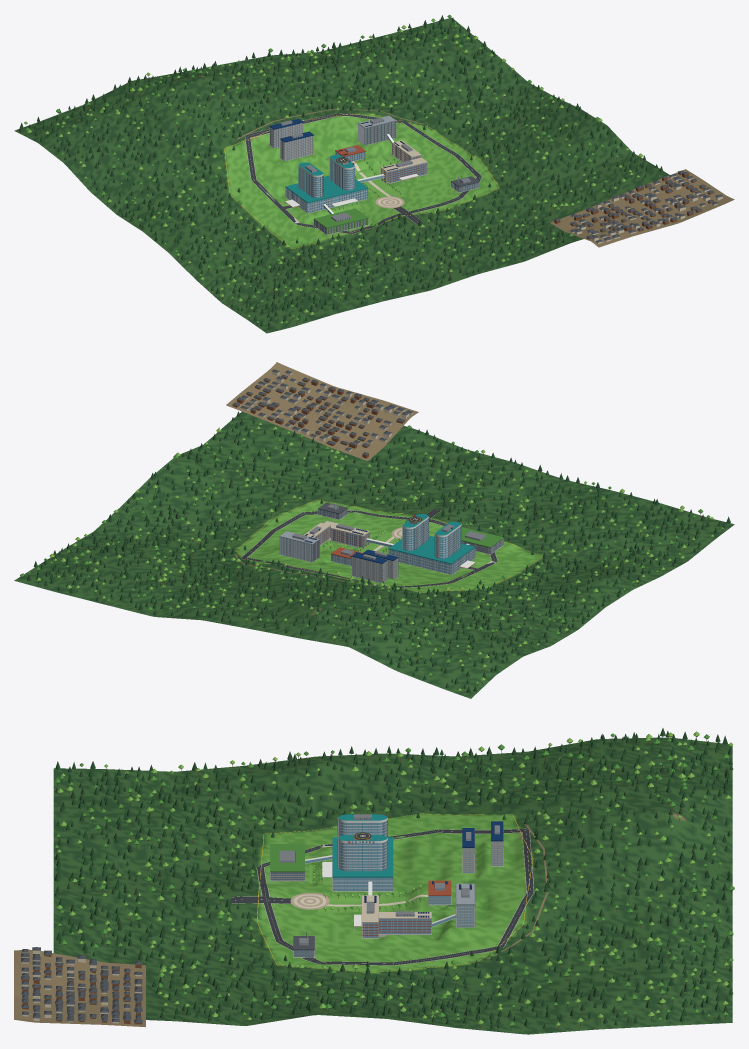
The model's file is campus-med-site.glb.
3 views of the same model, one above another, from view 1: azimuth 30°, elevation 25°; view 2: azimuth 150°, elevation 25°; view 3: azimuth 270°, elevation 25° (orthographic). The views are drawn at different scales.
Parts seen in each view (by area): view 1: MS_Terrain, MS_Trees, MS_DramaSet, MS_Landscape, MS_Building_hospital-podium, MS_Building_parking, MS_Building_research, MS_Building_school-a, MS_Building_dorm-1, MS_Building_ward-east, MS_Building_ward-west, MS_Building_dorm-2; view 2: MS_Terrain, MS_Trees, MS_DramaSet, MS_Landscape, MS_Building_hospital-podium, MS_Building_research, MS_Building_dorm-2, MS_Building_ward-west, MS_Building_ward-east, MS_Building_parking, MS_Building_school-a; view 3: MS_Terrain, MS_Trees, MS_DramaSet, MS_Landscape, MS_Building_ward-east, MS_Building_hospital-podium, MS_Building_parking, MS_Building_school-b, MS_Building_ward-west, MS_Building_research, MS_Building_school-a, MS_Building_commons (+3 smaller).
Part boxes in pixels (<box>): MS_Terrain: <box>14,17,669,333</box>; MS_Trees: <box>19,14,662,329</box>; MS_DramaSet: <box>550,169,734,247</box>; MS_Landscape: <box>237,108,481,234</box>; MS_Building_hospital-podium: <box>285,175,368,213</box>; MS_Building_parking: <box>313,208,368,235</box>; MS_Building_research: <box>358,115,396,145</box>; MS_Building_school-a: <box>380,157,427,183</box>; MS_Building_dorm-1: <box>280,131,313,161</box>; MS_Building_ward-east: <box>329,155,354,190</box>; MS_Building_ward-west: <box>298,162,323,197</box>; MS_Building_dorm-2: <box>269,118,303,148</box>; MS_Terrain: <box>14,411,734,698</box>; MS_Trees: <box>20,411,730,693</box>; MS_DramaSet: <box>226,362,418,460</box>; MS_Landscape: <box>234,509,497,589</box>; MS_Building_hospital-podium: <box>388,535,475,575</box>; MS_Building_research: <box>279,531,319,562</box>; MS_Building_dorm-2: <box>351,552,387,583</box>; MS_Building_ward-west: <box>434,521,461,558</box>; MS_Building_ward-east: <box>402,514,428,550</box>; MS_Building_parking: <box>461,527,504,554</box>; MS_Building_school-a: <box>324,521,369,548</box>; MS_Terrain: <box>53,737,732,1034</box>; MS_Trees: <box>53,728,734,1030</box>; MS_DramaSet: <box>14,947,145,1027</box>; MS_Landscape: <box>231,824,548,965</box>; MS_Building_ward-east: <box>337,832,387,871</box>; MS_Building_hospital-podium: <box>322,837,393,891</box>; MS_Building_parking: <box>270,844,304,881</box>; MS_Building_school-b: <box>378,911,431,936</box>; MS_Building_ward-west: <box>337,814,387,837</box>; MS_Building_research: <box>455,883,475,927</box>; MS_Building_school-a: <box>354,895,378,938</box>; MS_Building_commons: <box>428,880,451,905</box>.
Bounding box in the file's own units: 583 × 70.95 × 597.
